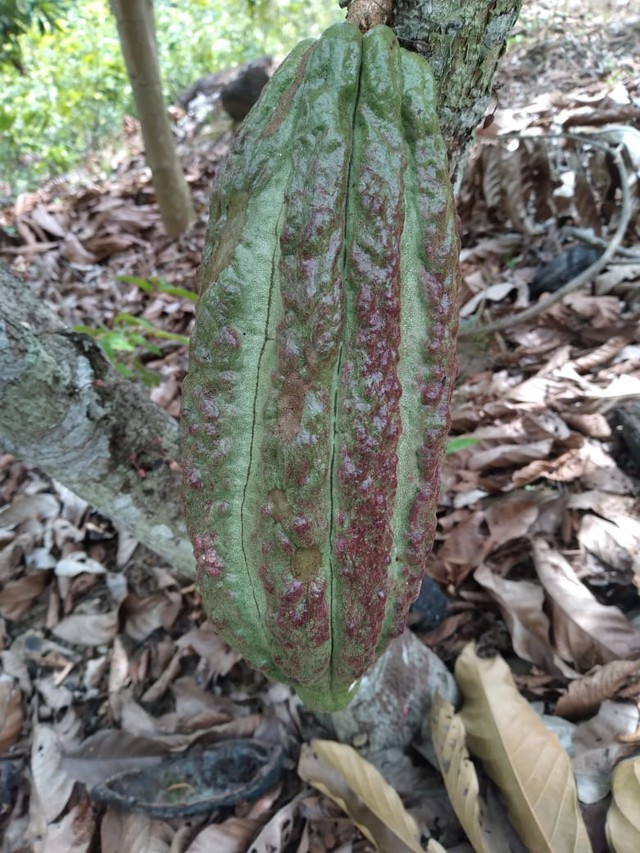Health: (165, 16, 466, 734)
